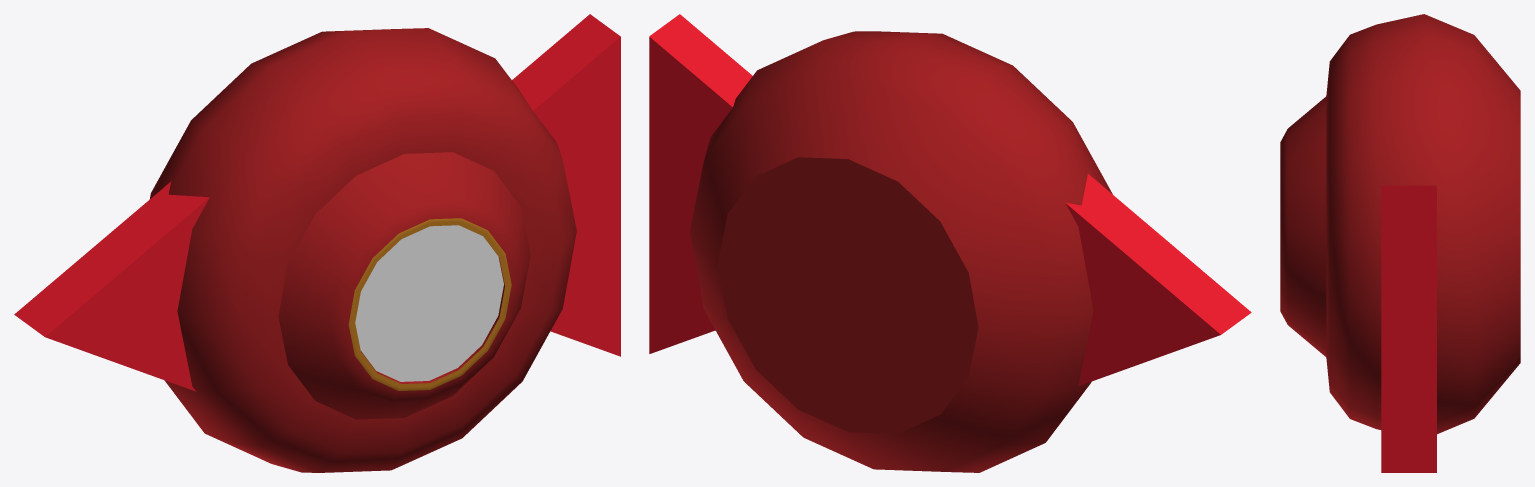
File: CLOCK-4.fbx
The picture shows the model from 3 angles, left to right: view 1: azimuth 30°, elevation 25°; view 2: azimuth 150°, elevation 25°; view 3: azimuth 270°, elevation 25°; orthographic projection. The views are drawn at different scales.
Visible parts, largest first — view 1: Clock D; view 2: Clock D; view 3: Clock D.
Boxes of the visible parts, left/top/right/bottom form: Clock D: left=14, top=14, right=620, bottom=472; Clock D: left=649, top=14, right=1251, bottom=472; Clock D: left=1280, top=14, right=1520, bottom=472.
Size of the model in its own units: 0.3824 by 0.2729 by 0.154.
